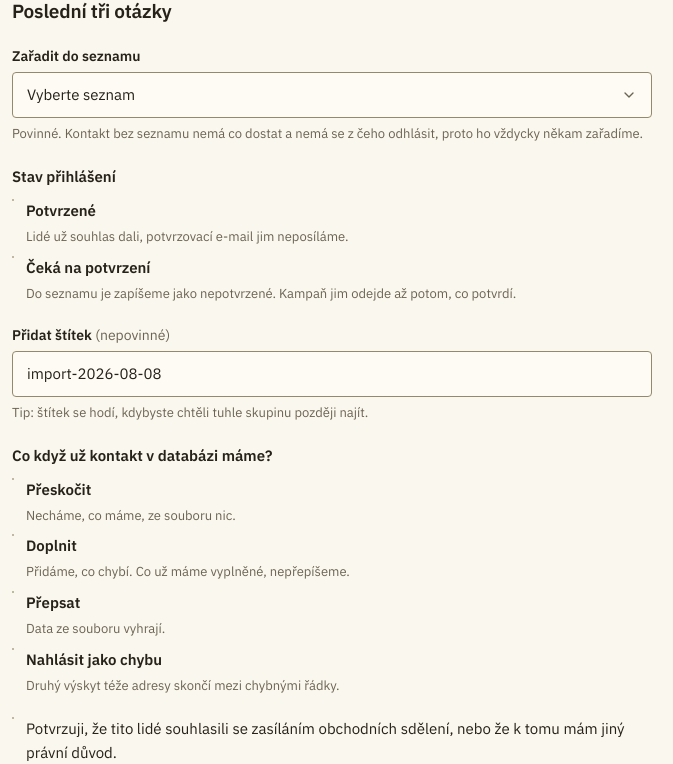
Test: options step › requires the declaration before confirmed subscription on a double opt-in list
This screenshot has width=673, height=764.
What coordinates should you click on to do the following:
click the dropdown named "zařadit do seznamu"
I would click on:
 (81, 95)
Its box is top-left (12, 72), bottom-right (652, 118).
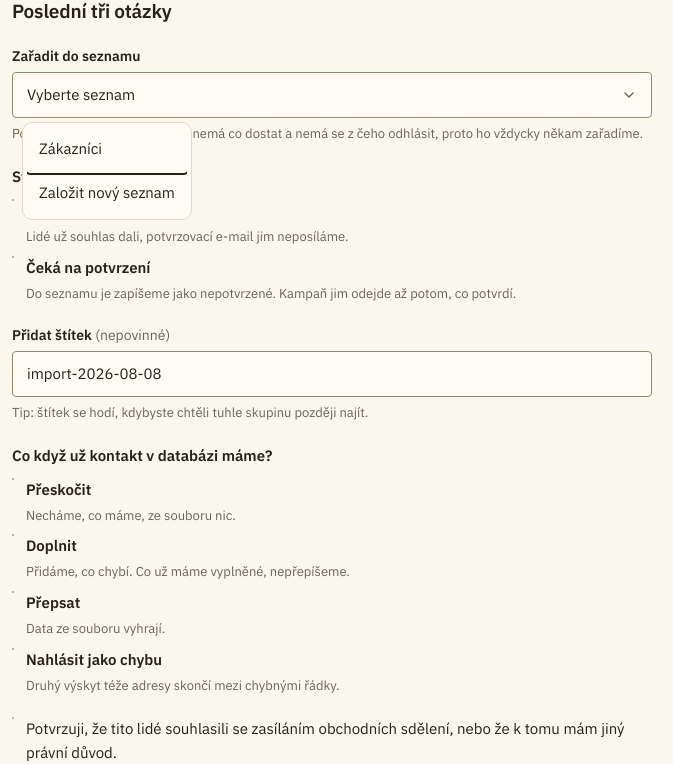
What coordinates should you click on to do the following:
click the option "Zákazníci"
I would click on:
 (71, 148)
Its box is top-left (39, 139), bottom-right (102, 158).
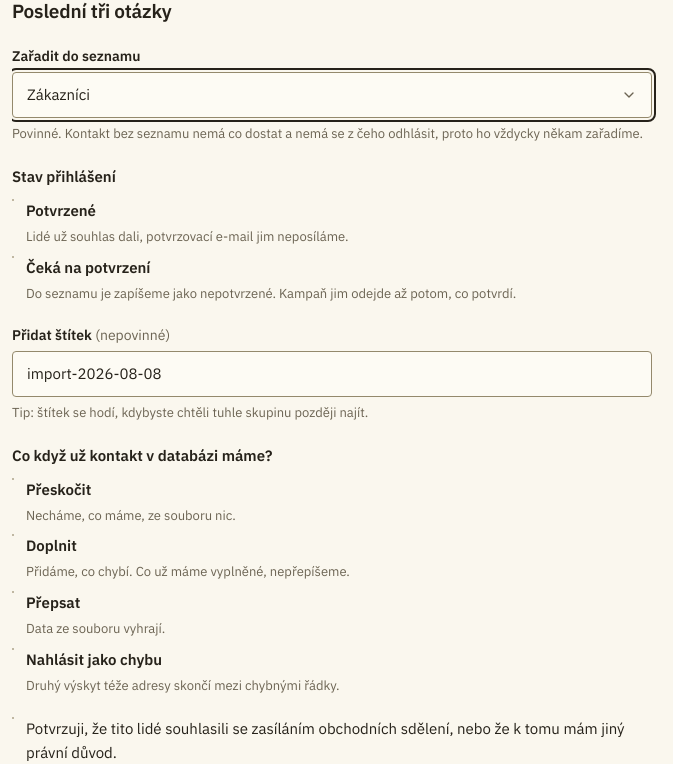
What coordinates should you click on to do the following:
click the 1st radio button named "potvrzené"
I would click on:
 (13, 200)
Its box is top-left (12, 199), bottom-right (14, 201).
(page scrolled)
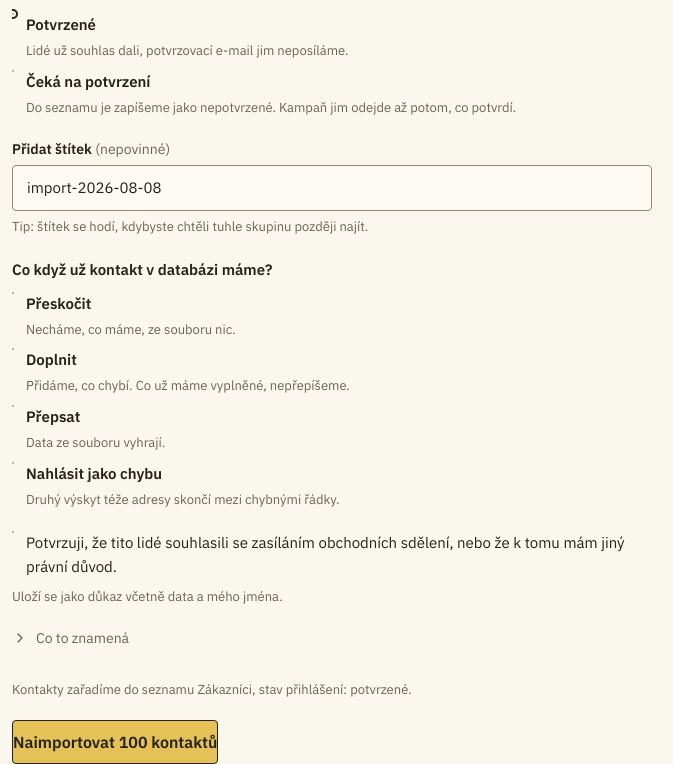
What coordinates should you click on to do the following:
click the button "Naimportovat 100 kontaktů"
I would click on:
 (115, 742)
Its box is top-left (12, 720), bottom-right (218, 763).
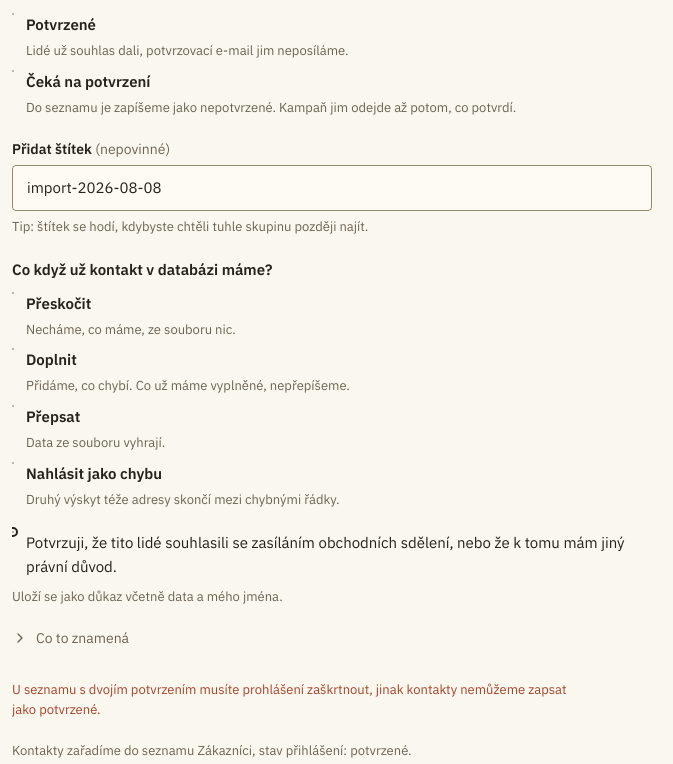
Expected: the message shows "prohlášení", top-left (12, 681), bottom-right (567, 718)
